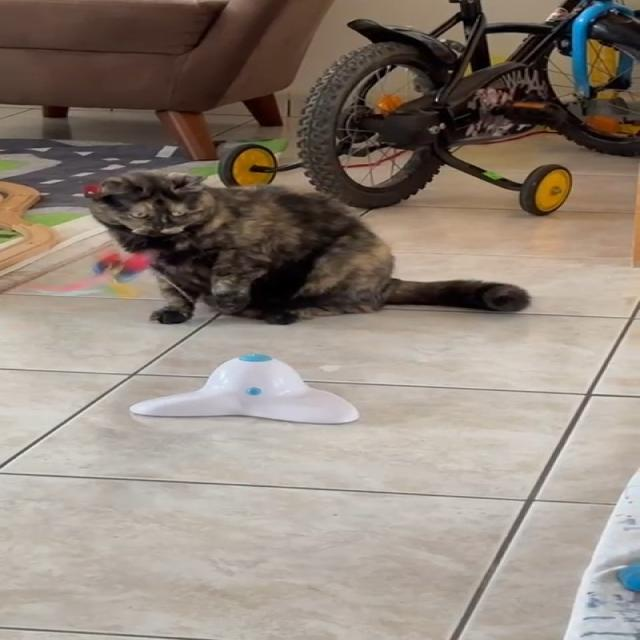authorized: (82, 168, 530, 325)
